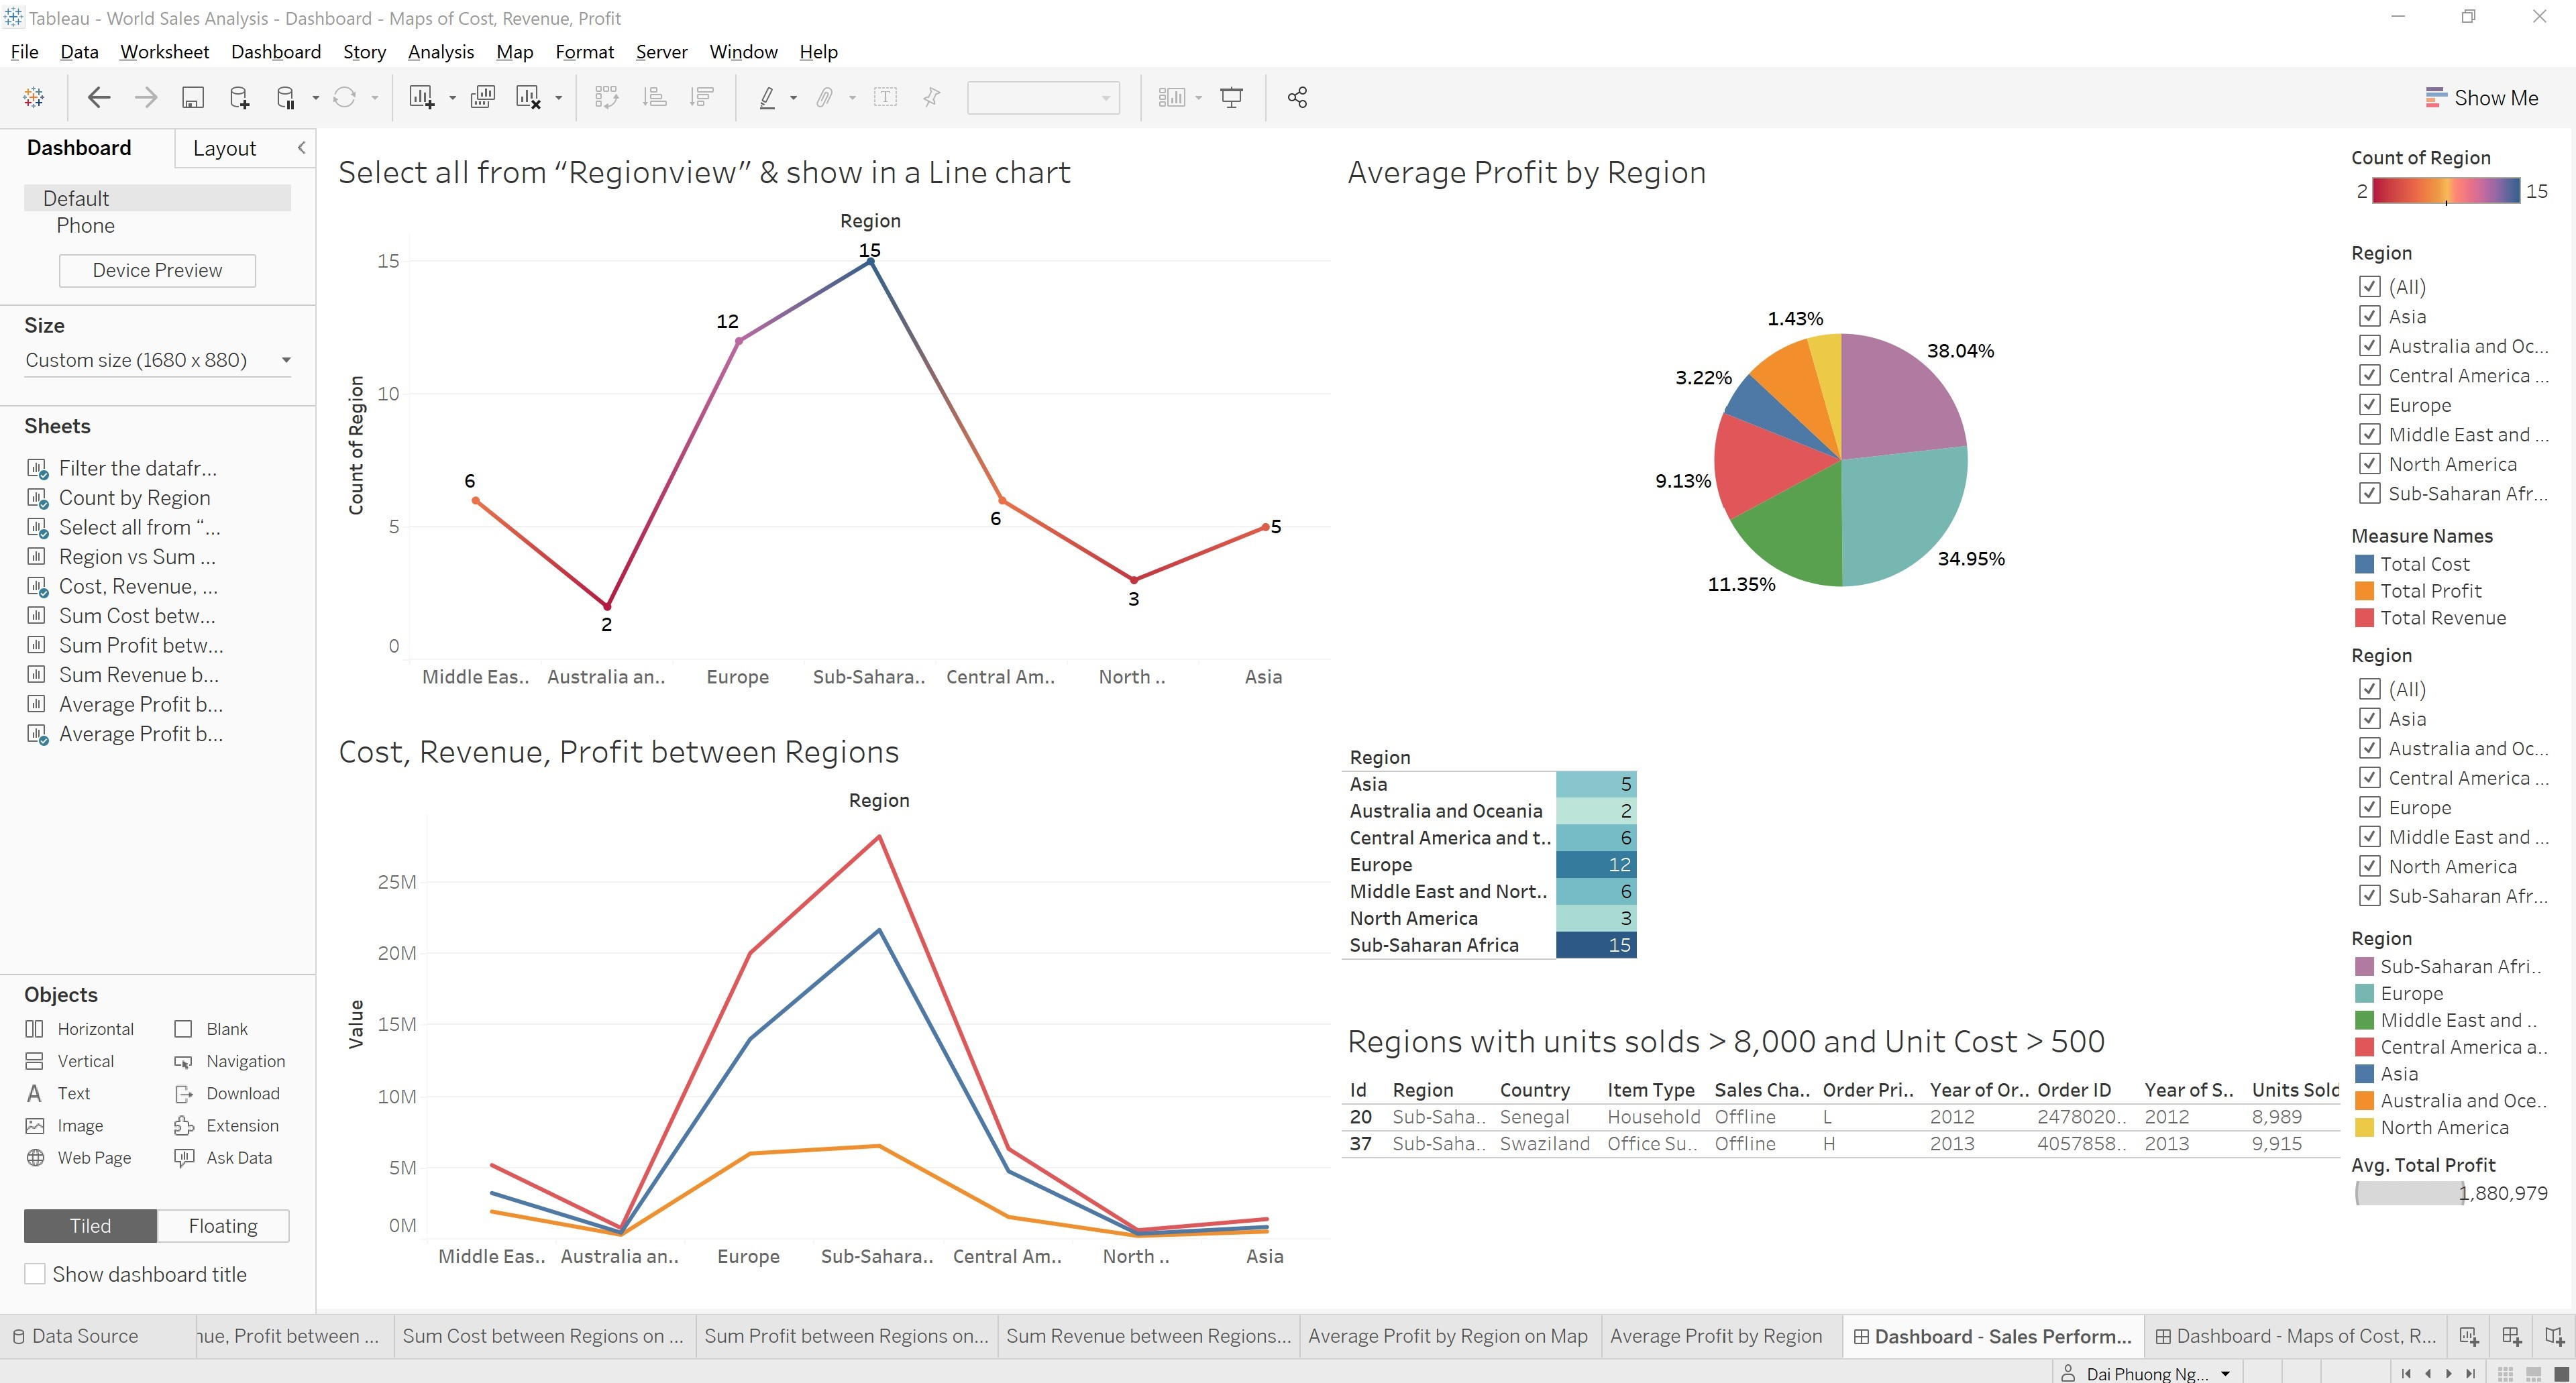

Layout of this report page (visuals, bound fields, positions):
{"tool":"tableau","page":{"name":"Dashboard - Sales Performance by Region","canvas":[1680,880],"ordinal":1},"visuals":[{"type":"worksheet","title":"Select all from “Regionview” & show in a Line chart","mark":"Line","rows":["Region"],"cols":["Region"],"box":[8,8,752,432]},{"type":"worksheet","title":"Average Profit by Region","mark":"Pie","box":[760,8,752,432]},{"type":"legend","title":"Select all from “Regionview” & show in a Line chart","param":"[federated.0zfqg961lk8p1z1b4xt3s0auii42].[cnt:Region:qk]","box":[1512,8,160,71]},{"type":"filter","title":"Cost, Revenue, Profit between Regions","param":"[federated.0zfqg961lk8p1z1b4xt3s0auii42].[none:Region:nk]","box":[1512,79,160,211]},{"type":"legend","title":"Cost, Revenue, Profit between Regions","param":"[federated.0zfqg961lk8p1z1b4xt3s0auii42].[:Measure Names]","box":[1512,290,160,89]},{"type":"filter","title":"Average Profit by Region","param":"[federated.0zfqg961lk8p1z1b4xt3s0auii42].[none:Region:nk]","box":[1512,379,160,211]},{"type":"worksheet","title":"Cost, Revenue, Profit between Regions","mark":"Line","cols":["Region"],"box":[8,440,752,432]},{"type":"worksheet","title":"Count by Region","mark":"Square","rows":["Region"],"box":[760,440,752,216]},{"type":"legend","title":"Average Profit by Region","param":"[federated.0zfqg961lk8p1z1b4xt3s0auii42].[none:Region:nk]","box":[1512,590,160,169]},{"type":"worksheet","title":"Filter the dataframe to show units sold > 8000 and unit cost > 500","mark":"Automatic","rows":["Id","Region","Country","Item_Type","Sales_Channel","Order_Priority","Order_Date","Order_ID","Ship_Date","Units_Sold","Unit_Price","Unit_Cost"],"box":[760,656,752,216]},{"type":"legend","title":"Average Profit by Region","param":"[federated.0zfqg961lk8p1z1b4xt3s0auii42].[avg:Total_Profit:qk]","box":[1512,759,160,49]}]}

Visuals, with their boxes on the page's 1680x880 design canvas (x1, y1, x2, y2). These are canvas units, not pixel positions in the 2576x1383 screenshot, which may show the page scaled, cropped or inside an application window:
"Select all from “Regionview” & show in a Line chart" worksheet (Line marks): (x1=8, y1=8, x2=760, y2=440)
"Average Profit by Region" worksheet (Pie marks): (x1=760, y1=8, x2=1512, y2=440)
"Select all from “Regionview” & show in a Line chart" legend: (x1=1512, y1=8, x2=1672, y2=79)
"Cost, Revenue, Profit between Regions" filter: (x1=1512, y1=79, x2=1672, y2=290)
"Cost, Revenue, Profit between Regions" legend: (x1=1512, y1=290, x2=1672, y2=379)
"Average Profit by Region" filter: (x1=1512, y1=379, x2=1672, y2=590)
"Cost, Revenue, Profit between Regions" worksheet (Line marks): (x1=8, y1=440, x2=760, y2=872)
"Count by Region" worksheet (Square marks): (x1=760, y1=440, x2=1512, y2=656)
"Average Profit by Region" legend: (x1=1512, y1=590, x2=1672, y2=759)
"Filter the dataframe to show units sold > 8000 and unit cost > 500" worksheet: (x1=760, y1=656, x2=1512, y2=872)
"Average Profit by Region" legend: (x1=1512, y1=759, x2=1672, y2=808)
